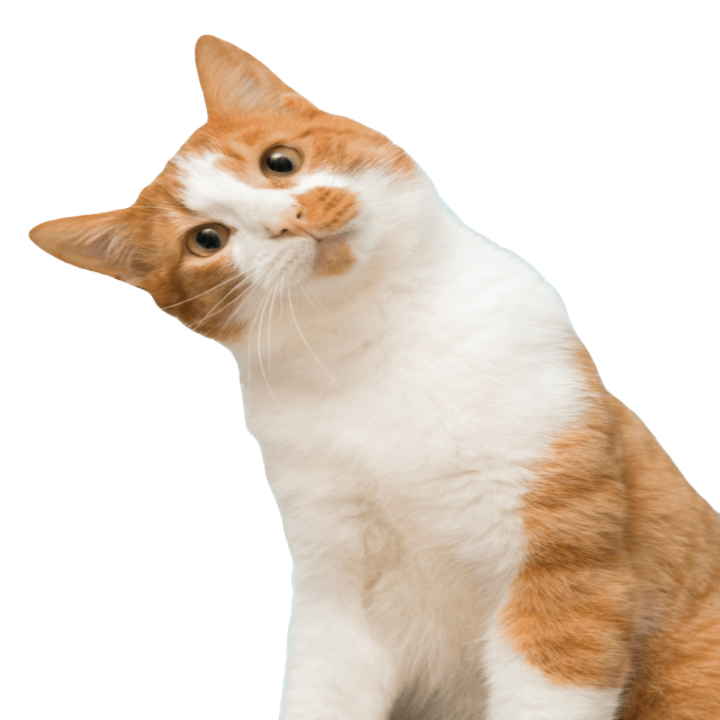Cat: (26, 31, 719, 719)
